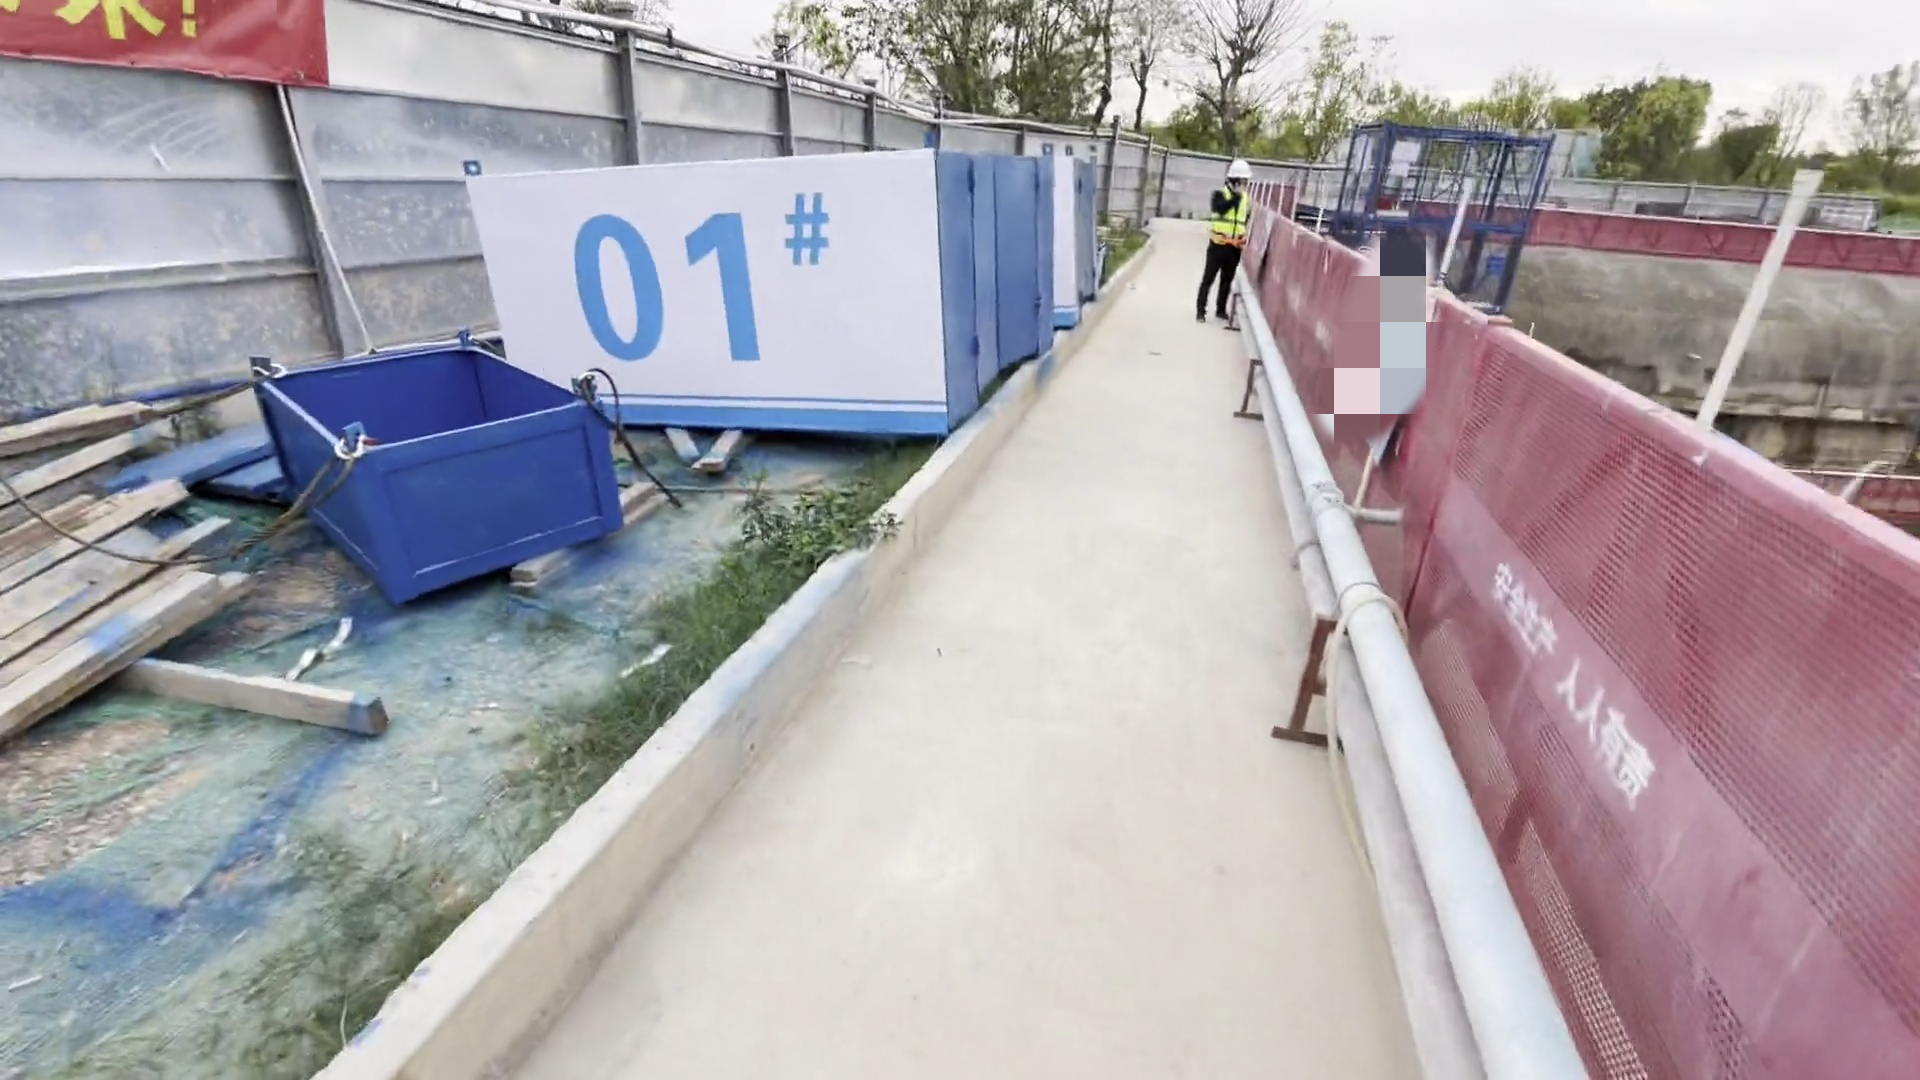fence: (1260, 203, 1920, 1080)
helmet: (1226, 155, 1257, 179)
hopper: (238, 304, 655, 599), (252, 322, 653, 602)
person: (1191, 152, 1259, 338)
slogan: (1, 1, 373, 81)
vest: (1211, 182, 1258, 247)
wood: (1, 399, 243, 753)
